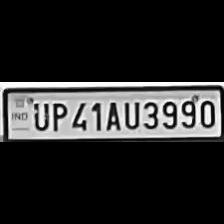0: (198, 97, 216, 127)
1: (88, 99, 104, 130)
3: (140, 98, 158, 130)
4: (68, 99, 90, 131)
9: (178, 97, 196, 129), (160, 97, 176, 129)
A: (103, 99, 121, 130)
P: (48, 100, 66, 132)
U: (29, 99, 48, 131), (122, 98, 140, 130)
